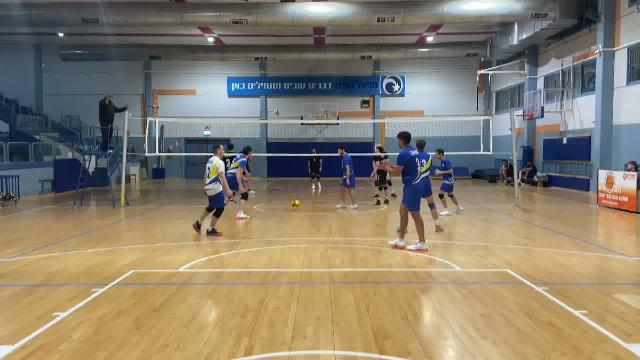ball: (288, 197, 303, 211)
